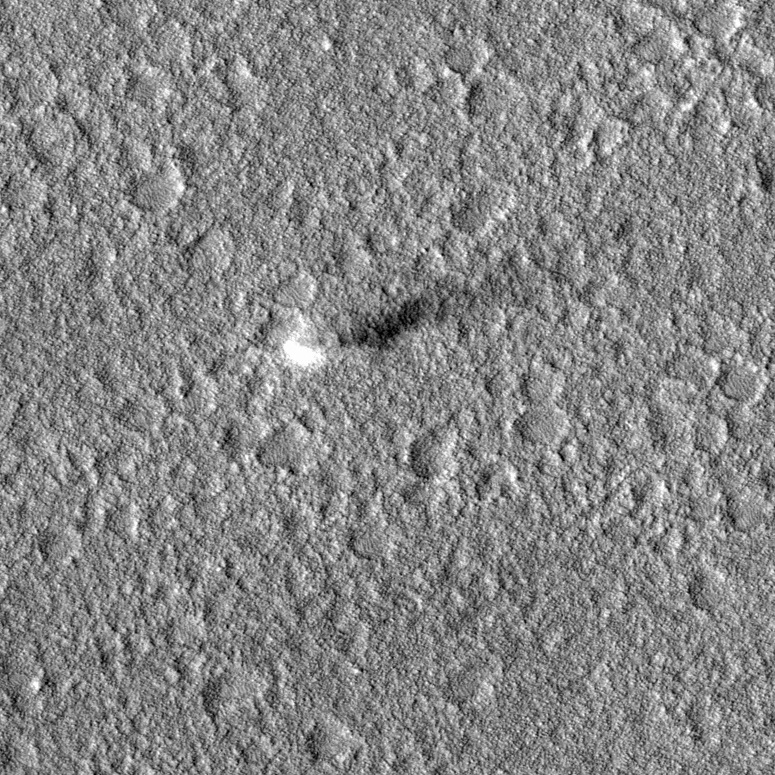dust_devil: (278, 277, 473, 372)
